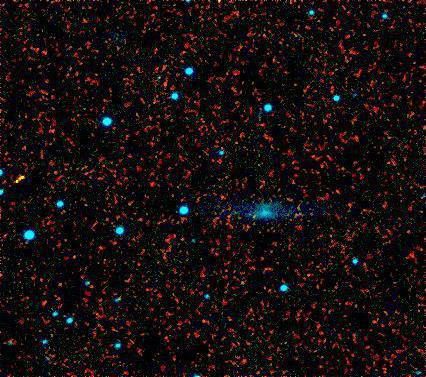star: (5, 165, 35, 195)
